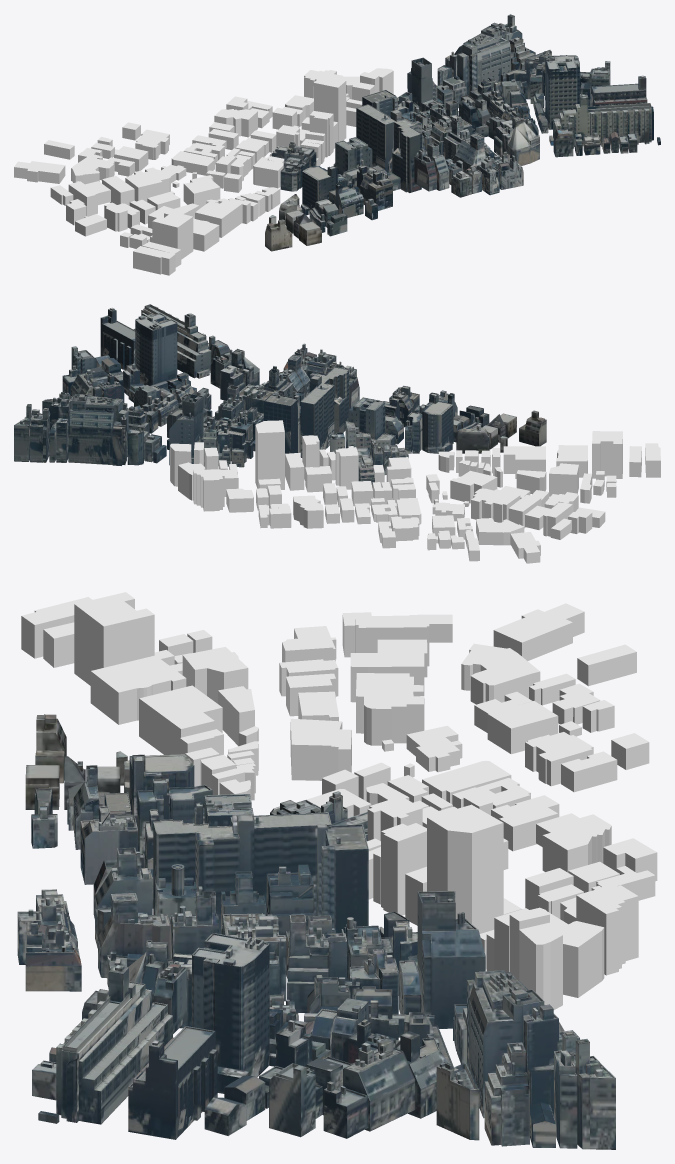
The model's file is building_-3_-1.glb.
The picture shows the model from 3 angles, top to bottom: view 1: azimuth 30°, elevation 25°; view 2: azimuth 150°, elevation 25°; view 3: azimuth 270°, elevation 25°; orthographic projection. The views are drawn at different scales.
Size of the model in its own units: 369 by 53.52 by 192.
Materials: 3 (2 with a texture image).
